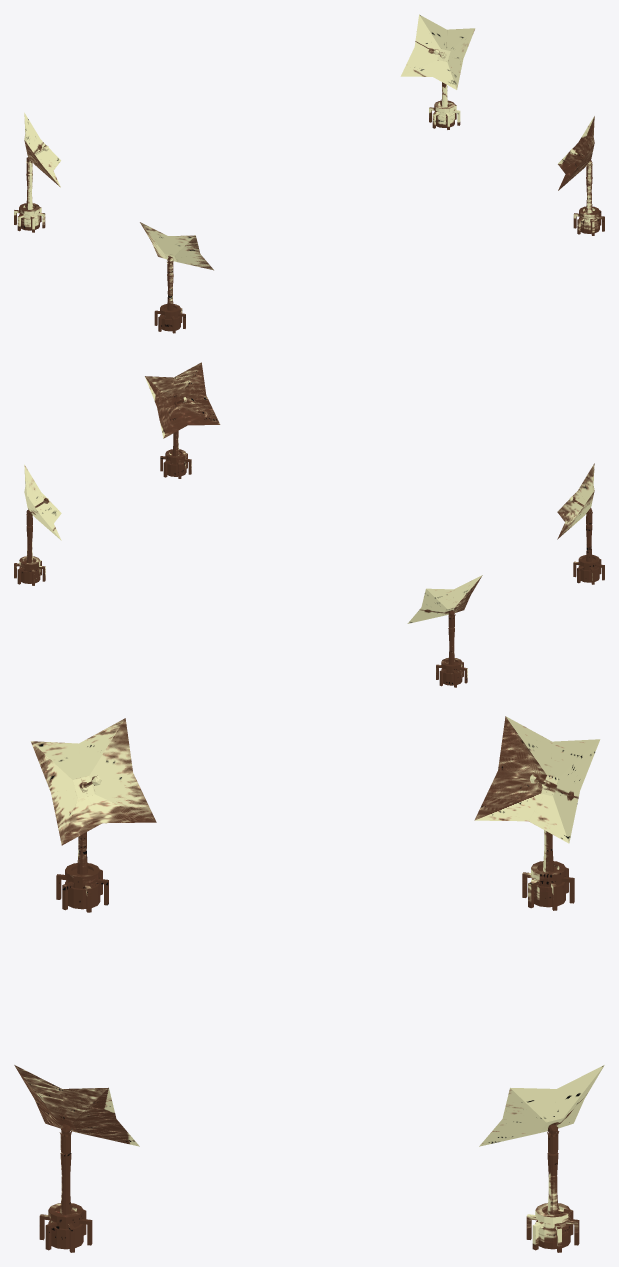
Rendered from Dish.glb.
The picture shows the model from 3 angles, top to bottom: view 1: azimuth 30°, elevation 25°; view 2: azimuth 150°, elevation 25°; view 3: azimuth 270°, elevation 25°; orthographic projection. The views are drawn at different scales.
Visible parts, largest first — view 1: Umbrella; view 2: Umbrella; view 3: Umbrella.
Boxes of the visible parts, left/top/right/bottom form: Umbrella: left=14, top=14, right=604, bottom=333; Umbrella: left=14, top=362, right=604, bottom=687; Umbrella: left=14, top=716, right=604, bottom=1252.
Bounding box in the file's own units: 96.73 × 20.51 × 64.99.
Materials: 1 (1 with a texture image).
